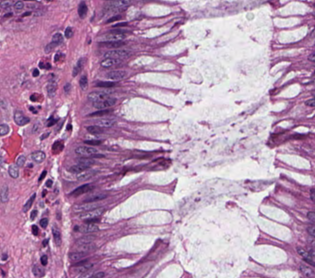nucleus: (80, 207, 103, 220), (92, 97, 115, 109), (105, 48, 130, 59), (102, 30, 125, 41), (88, 91, 110, 102), (75, 146, 97, 157), (71, 184, 92, 195), (74, 202, 99, 211), (106, 70, 126, 81), (95, 117, 115, 128), (74, 223, 97, 232), (72, 58, 84, 75), (99, 41, 124, 49), (85, 192, 106, 201), (100, 58, 120, 67), (77, 157, 94, 167), (69, 164, 87, 173), (76, 235, 94, 244), (109, 0, 129, 8), (31, 151, 45, 162), (77, 171, 94, 180), (47, 80, 56, 96), (52, 228, 60, 245), (78, 2, 87, 17), (51, 33, 62, 45), (86, 125, 102, 133), (90, 109, 109, 115), (79, 75, 87, 89), (52, 141, 62, 152), (96, 81, 114, 87), (107, 15, 120, 22), (45, 43, 55, 52), (84, 140, 100, 145), (65, 27, 72, 38), (307, 225, 314, 236), (47, 118, 56, 126), (38, 171, 46, 180), (307, 212, 314, 222), (39, 62, 50, 68), (306, 98, 314, 106), (40, 218, 47, 227), (30, 210, 36, 219), (32, 225, 38, 234), (114, 22, 126, 26), (310, 188, 314, 200), (309, 52, 314, 61), (32, 69, 38, 76), (33, 123, 39, 130), (64, 84, 69, 91), (29, 107, 36, 112), (46, 179, 51, 186), (43, 239, 48, 246), (68, 124, 70, 129)
